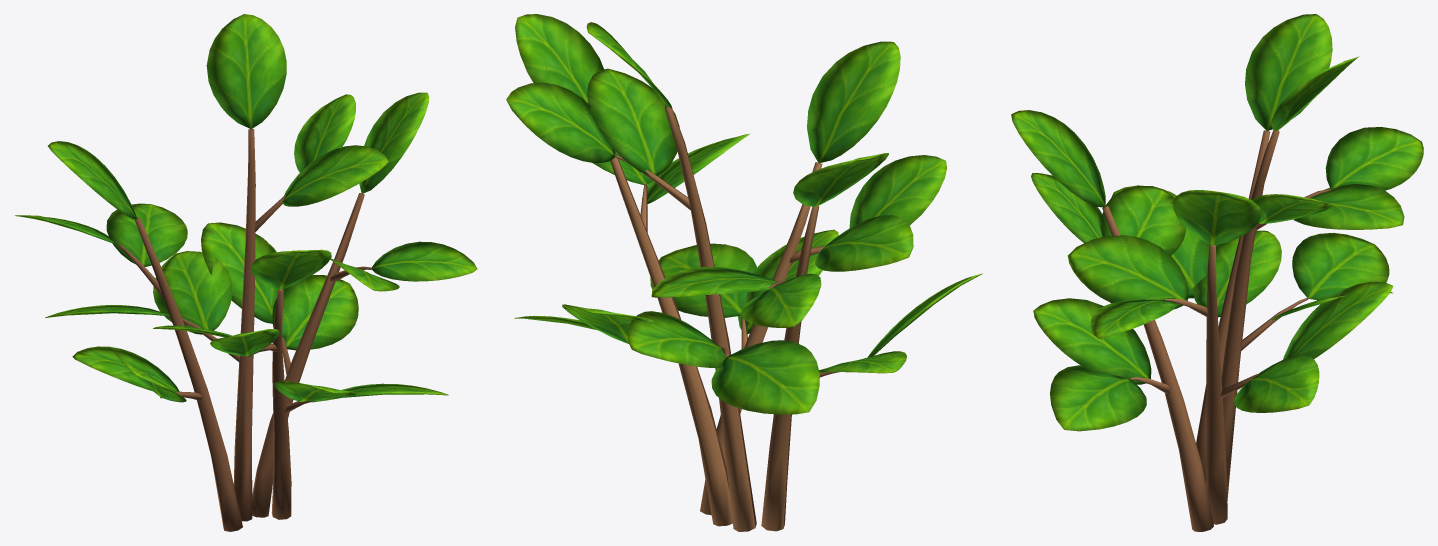
Rendered from NP_Blueberry_Young_LOD1.fbx.
3 renders of one model, left to right at view 1: azimuth 30°, elevation 25°; view 2: azimuth 150°, elevation 25°; view 3: azimuth 270°, elevation 25°, orthographic. The views are drawn at different scales.
Visible parts, largest first — view 1: NP_Blueberry_Young; view 2: NP_Blueberry_Young; view 3: NP_Blueberry_Young.
Part boxes in pixels (x1,y1,x2,y2): NP_Blueberry_Young: (15,14,477,531); NP_Blueberry_Young: (506,14,982,531); NP_Blueberry_Young: (1011,14,1423,531).
Size of the model in its own units: 39.06 by 48.49 by 37.05.
1 material, 1 textured.
